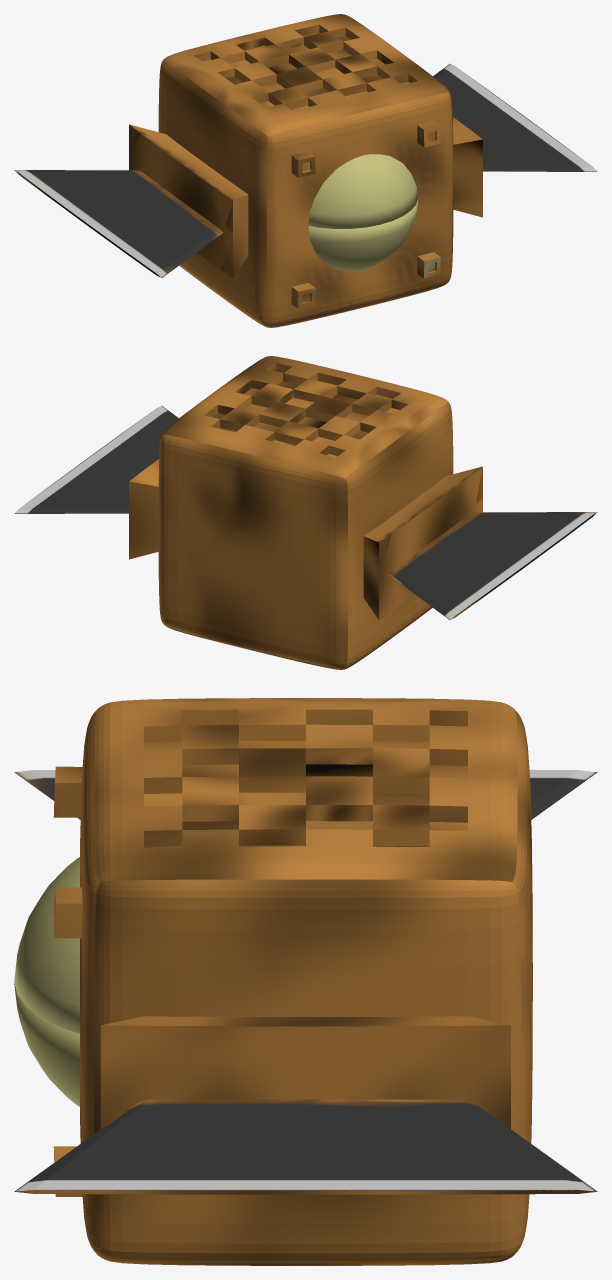
The model's file is ArtifactGuardian.fbx.
The picture shows the model from 3 angles, top to bottom: view 1: azimuth 30°, elevation 25°; view 2: azimuth 150°, elevation 25°; view 3: azimuth 270°, elevation 25°; orthographic projection. The views are drawn at different scales.
Visible parts, largest first — view 1: Body, Uppereyelid, Lowereyelid; view 2: Body; view 3: Body, Uppereyelid, Lowereyelid.
Boxes of the visible parts, bbox=[...] form: Body: bbox=[14, 14, 597, 327]; Uppereyelid: bbox=[308, 154, 418, 228]; Lowereyelid: bbox=[308, 200, 418, 271]; Body: bbox=[14, 356, 597, 669]; Body: bbox=[14, 698, 597, 1265]; Uppereyelid: bbox=[14, 857, 79, 1033]; Lowereyelid: bbox=[14, 982, 79, 1106].
Size of the model in its own units: 4.38 by 2.11 by 2.57.
Materials: 1 (1 with a texture image).
